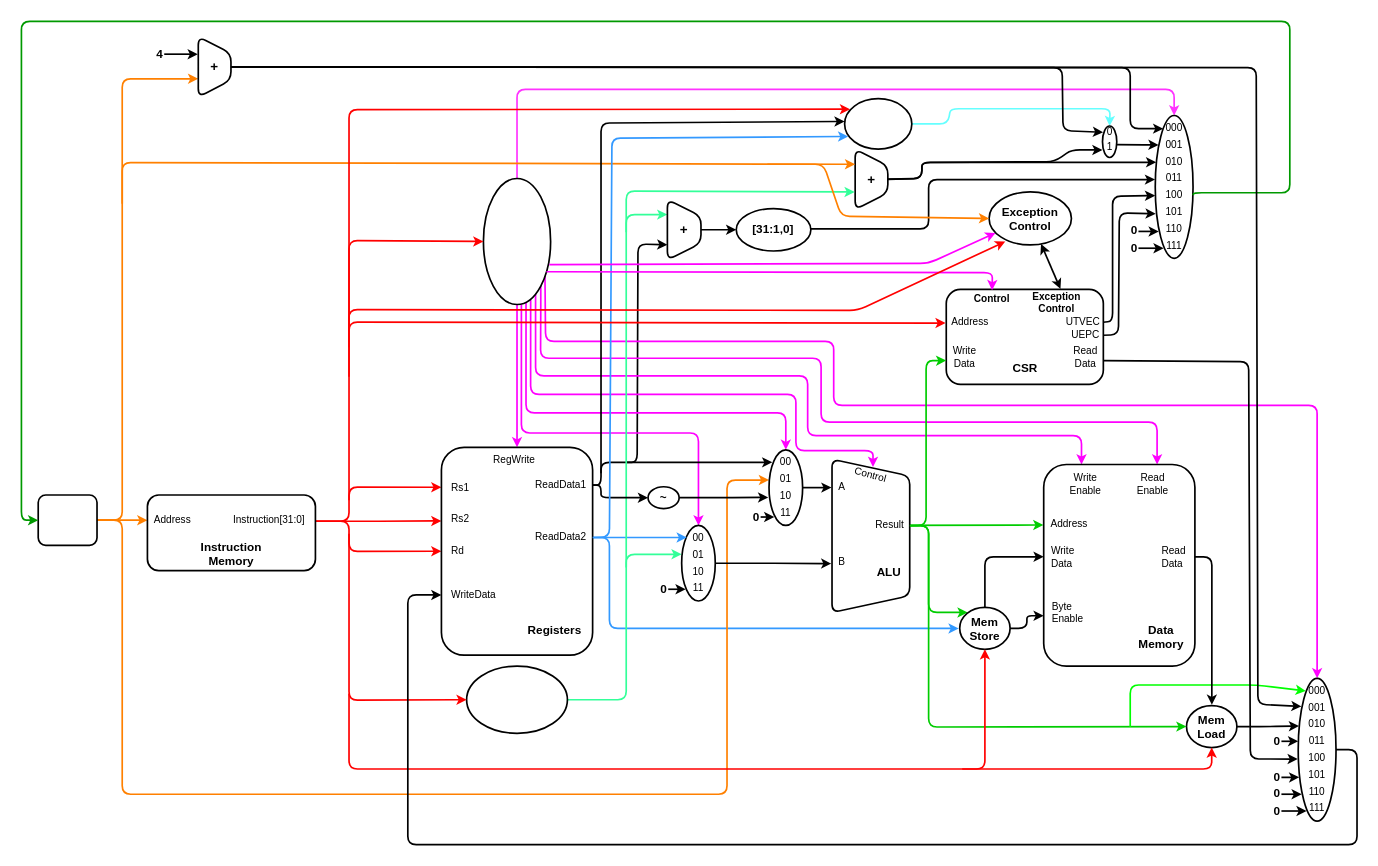
Image size: 1378x866. Some labels were removed from this diagram. Here are the shapes that lost their labels. From the top down, the box of each, then its label:
(843, 97, 912, 150): Branch Control
(482, 177, 551, 305): C o n t r o l
(37, 494, 97, 546): PC
(465, 665, 568, 734): Immediate Generator
